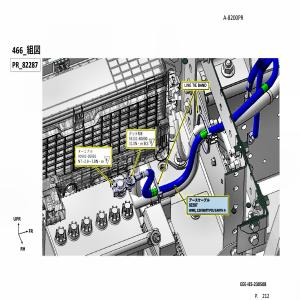PartNumber: (77, 153, 97, 159), (128, 136, 148, 141)
